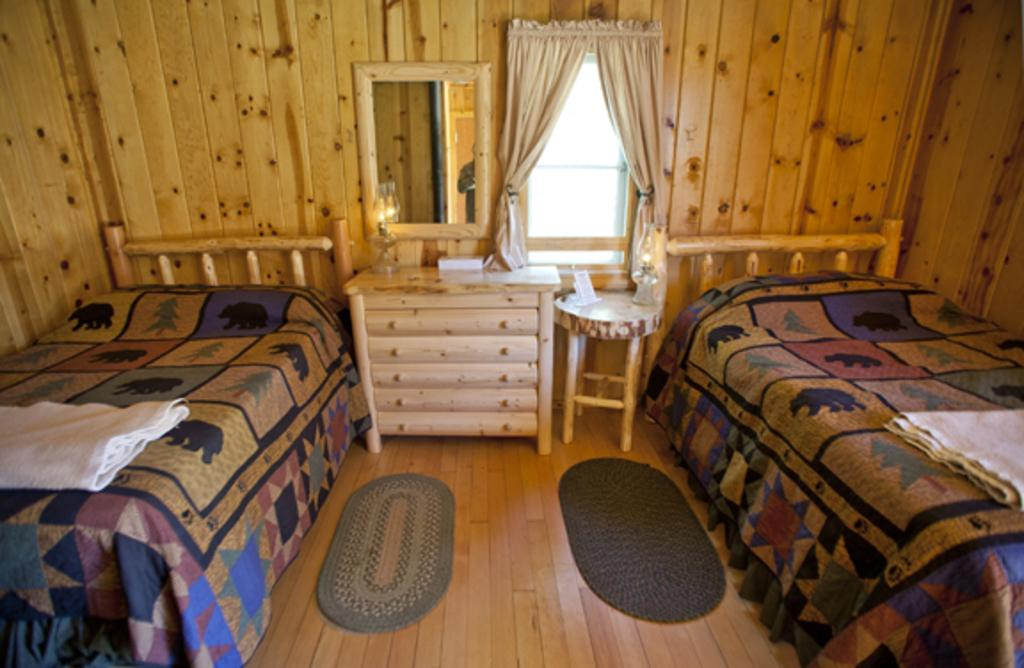cabinet_door: (383, 337, 532, 368), (384, 392, 530, 420), (382, 368, 526, 394), (376, 310, 535, 332), (383, 416, 525, 437)
handle: (494, 419, 514, 438), (390, 369, 408, 388), (384, 318, 402, 336), (392, 419, 407, 438), (390, 342, 404, 361), (492, 401, 514, 413), (493, 375, 513, 388), (496, 344, 510, 362), (392, 397, 406, 415), (496, 318, 510, 332)
